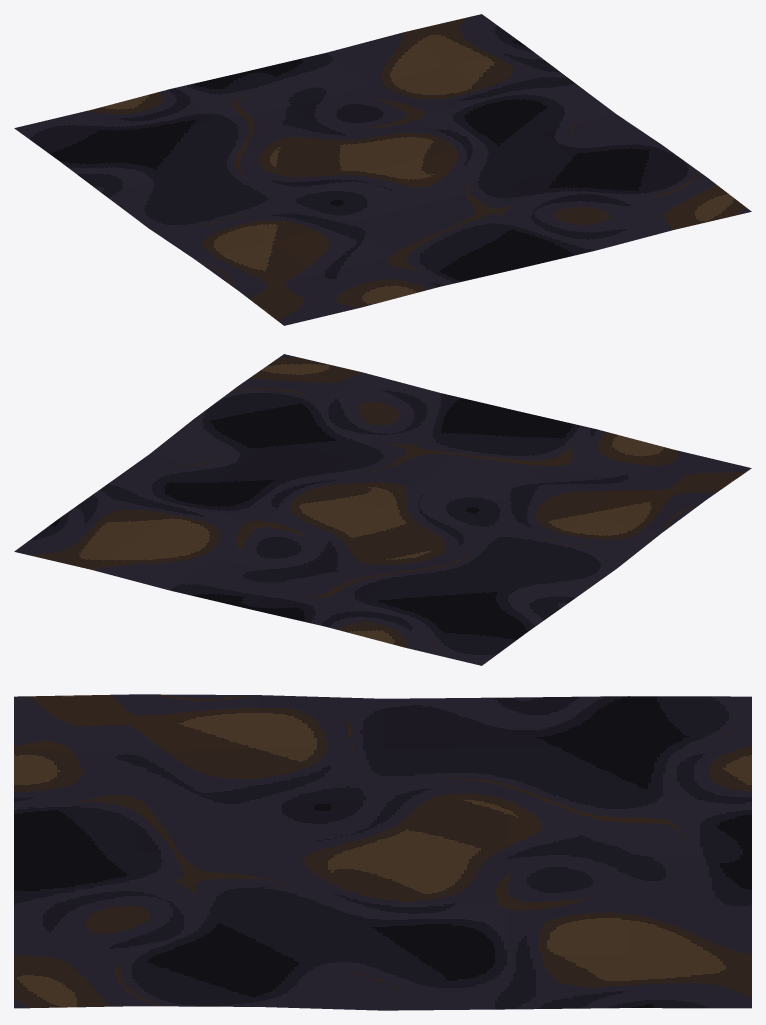
The model's file is MAR-01_Lamina_de_mar.gltf.
3 renders of one model, top to bottom at view 1: azimuth 30°, elevation 25°; view 2: azimuth 150°, elevation 25°; view 3: azimuth 270°, elevation 25°, orthographic. The views are drawn at different scales.
Parts seen in each view (by area): view 1: MAR-01_Lamina_de_mar; view 2: MAR-01_Lamina_de_mar; view 3: MAR-01_Lamina_de_mar.
Part boxes in pixels (x1,y1,x2,y2): MAR-01_Lamina_de_mar: (14,14,751,325); MAR-01_Lamina_de_mar: (14,354,751,665); MAR-01_Lamina_de_mar: (14,694,751,1010).
Size of the model in its own units: 8 by 0.0625 by 8.
Materials: 1 (1 with a texture image).
